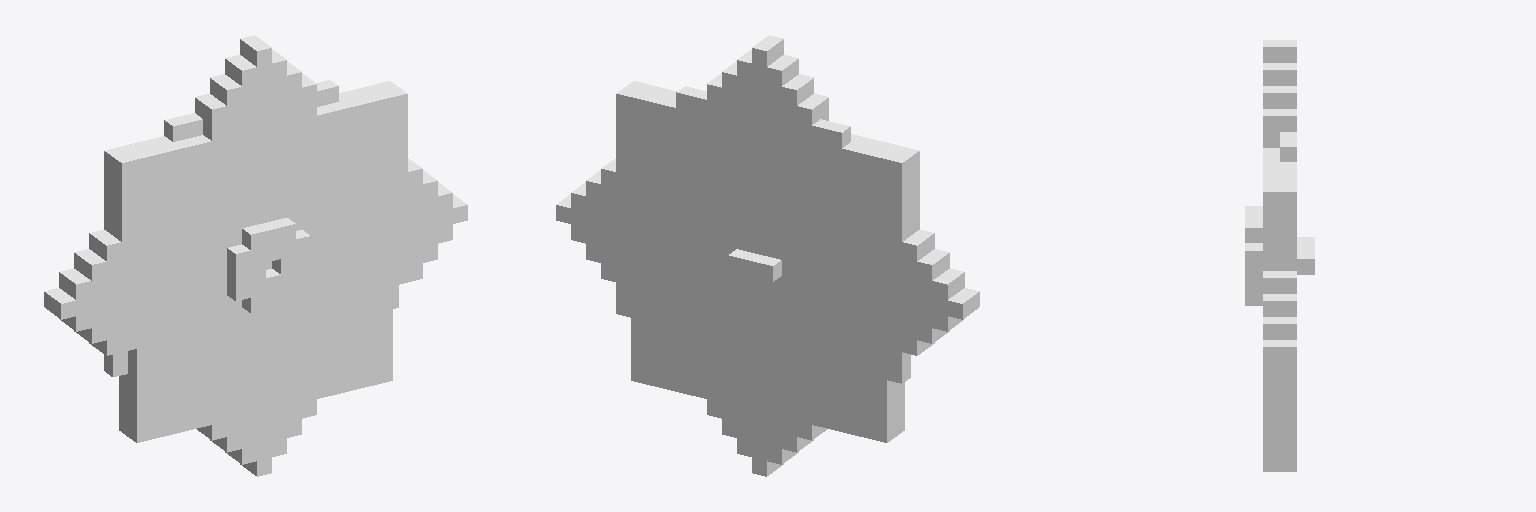
File: cierra.obj
3 renders of one model, left to right at view 1: azimuth 30°, elevation 25°; view 2: azimuth 150°, elevation 25°; view 3: azimuth 270°, elevation 25°, orthographic.
Parts seen in each view (by area): view 1: object 1; view 2: object 1; view 3: object 1.
Part boxes in pixels (left/top/right/bottom): object 1: left=44, top=35, right=467, bottom=476; object 1: left=556, top=35, right=979, bottom=476; object 1: left=1245, top=40, right=1314, bottom=471.
Size of the model in its own units: 2.7 by 2.7 by 0.4.